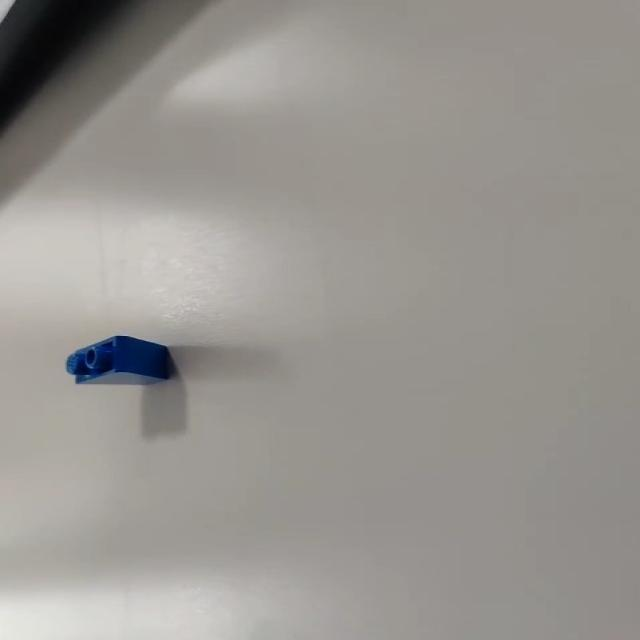X1x2x1: (64, 333, 178, 388)
